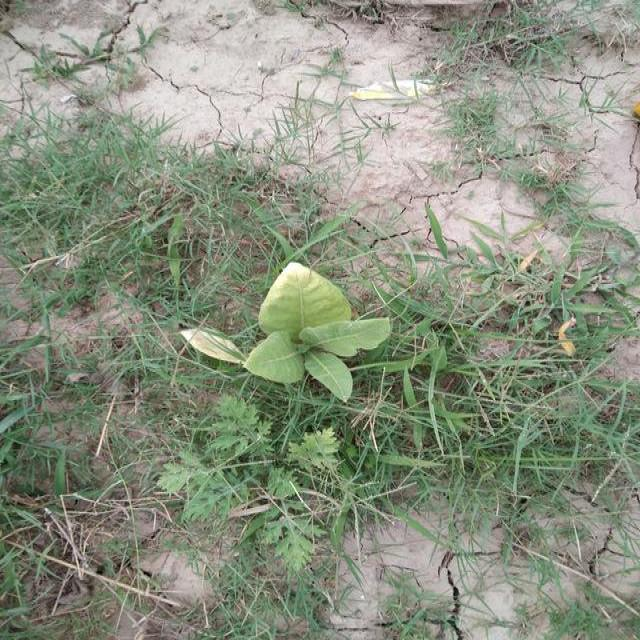crop: (166, 243, 405, 416)
